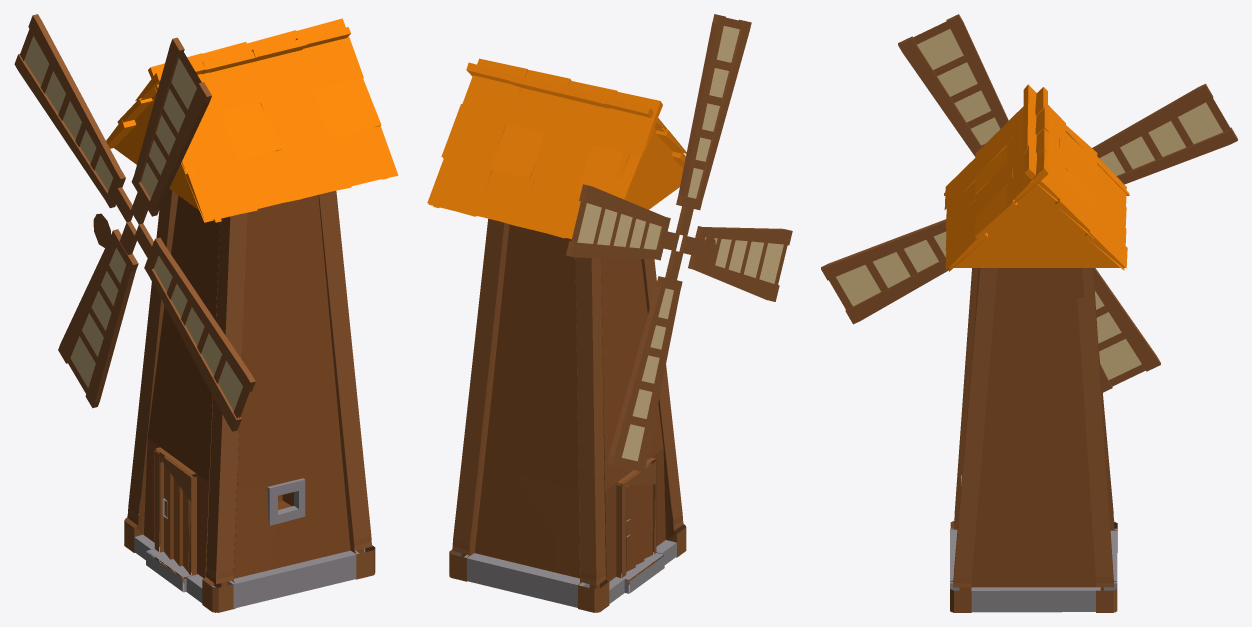
Rendered from decorLarge-village-46.glb.
3 views of the same model, side by side, from view 1: azimuth 30°, elevation 25°; view 2: azimuth 150°, elevation 25°; view 3: azimuth 270°, elevation 25° (orthographic). The views are drawn at different scales.
Parts seen in each view (by area): view 1: piece; view 2: piece; view 3: piece.
Boxes of the visible parts, left/top/right/bottom form: piece: left=14, top=14, right=398, bottom=612; piece: left=427, top=14, right=792, bottom=612; piece: left=821, top=14, right=1237, bottom=612.
Size of the model in its own units: 15.64 by 35.11 by 25.87.
Materials: 1 (1 with a texture image).
